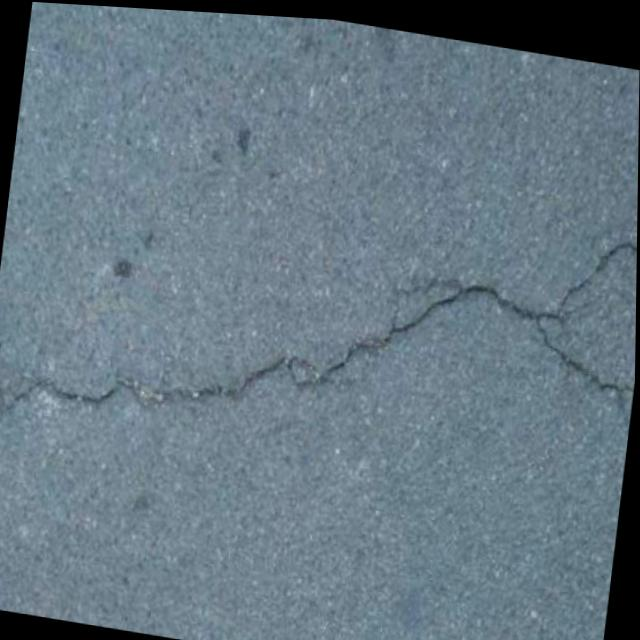Crack: (0, 113, 639, 516)
